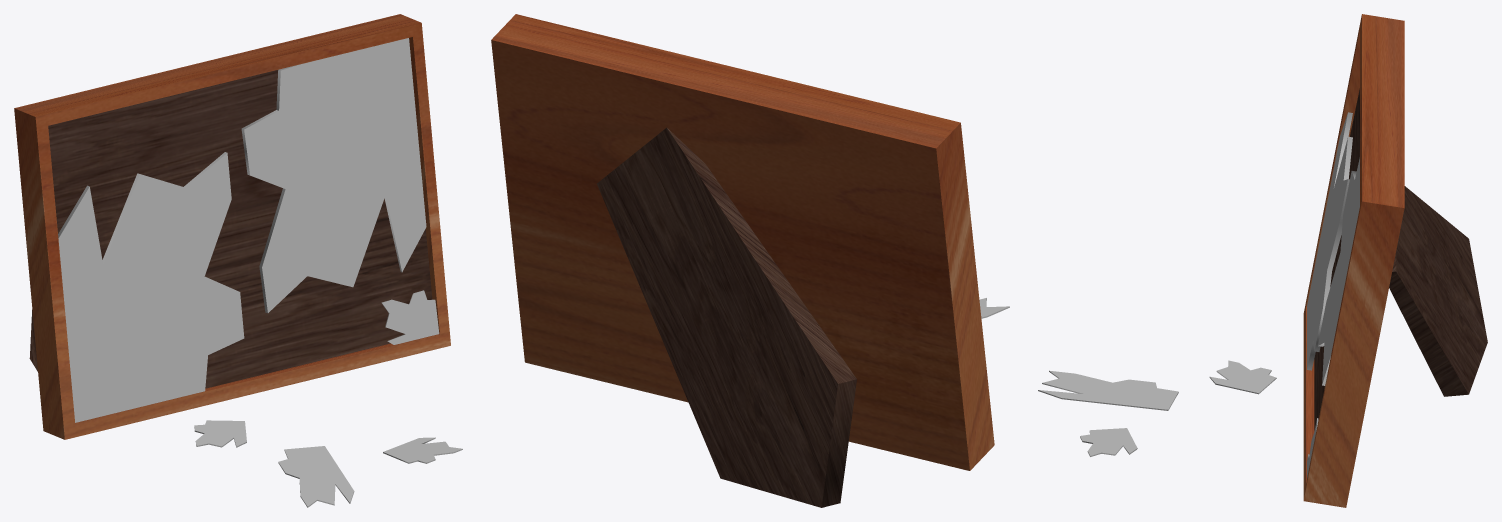
The model's file is picture_frame_broken.glb.
3 views of the same model, side by side, from view 1: azimuth 30°, elevation 25°; view 2: azimuth 150°, elevation 25°; view 3: azimuth 270°, elevation 25° (orthographic). The views are drawn at different scales.
Parts seen in each view (by area): view 1: Plane001, Box003, Box004, Box001, Box008, Box005, Box007, Box006; view 2: Box001, Box002; view 3: Box001, Box002, Box003, Box008, Box004, Plane001, Box006, Box007.
Boxes of the visible parts, bbox=[...] form: Plane001: bbox=[48, 70, 432, 388]; Box003: bbox=[58, 152, 244, 422]; Box004: bbox=[241, 38, 426, 313]; Box001: bbox=[14, 14, 450, 439]; Box008: bbox=[278, 446, 354, 507]; Box005: bbox=[381, 290, 439, 344]; Box007: bbox=[383, 437, 462, 463]; Box006: bbox=[194, 420, 246, 447]; Box001: bbox=[491, 14, 994, 470]; Box002: bbox=[597, 127, 856, 507]; Box001: bbox=[1303, 14, 1404, 507]; Box002: bbox=[1389, 186, 1487, 396]; Box003: bbox=[1307, 112, 1352, 370]; Box008: bbox=[1038, 370, 1178, 410]; Box004: bbox=[1318, 157, 1359, 385]; Plane001: bbox=[1314, 88, 1359, 430]; Box006: bbox=[1209, 360, 1276, 394]; Box007: bbox=[1080, 428, 1137, 456].
Bounding box in the file's own units: 1.15 × 0.8839 × 1.16.
Materials: 4 (4 with a texture image).
